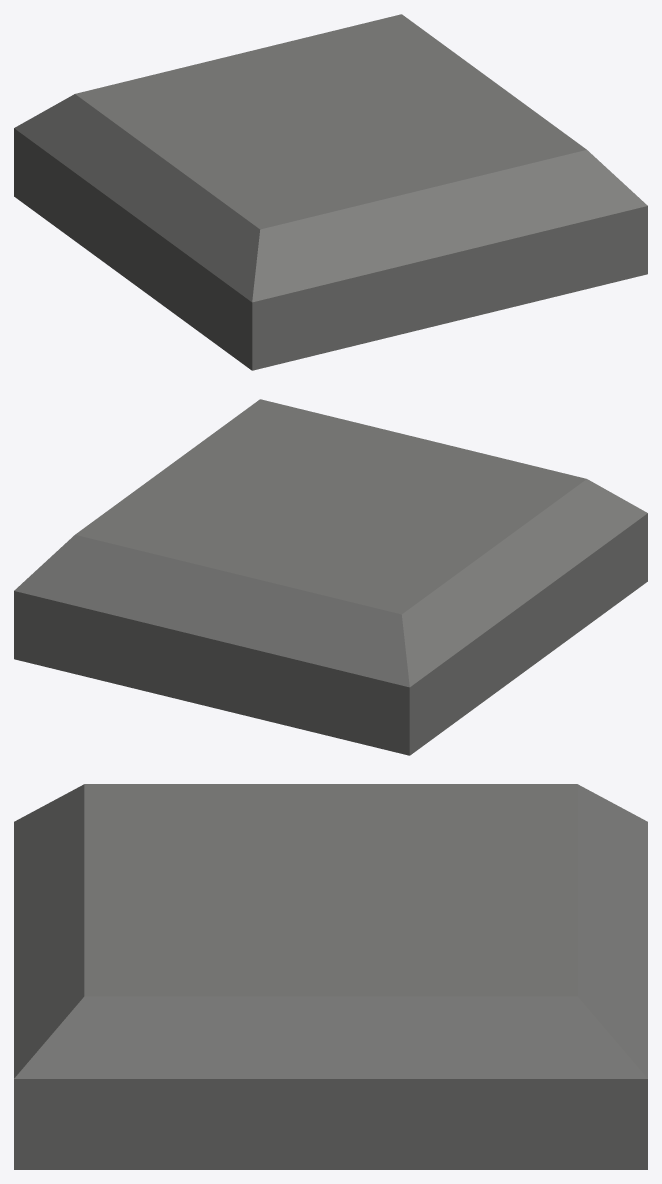
The model's file is SM_Env_Ground_Pavement_Corner_01.fbx.
3 renders of one model, top to bottom at view 1: azimuth 30°, elevation 25°; view 2: azimuth 150°, elevation 25°; view 3: azimuth 270°, elevation 25°, orthographic. The views are drawn at different scales.
Visible parts, largest first — view 1: SM_Env_Ground_Pavement_Corner_01; view 2: SM_Env_Ground_Pavement_Corner_01; view 3: SM_Env_Ground_Pavement_Corner_01.
Part boxes in pixels (x1,y1,x2,y2): SM_Env_Ground_Pavement_Corner_01: (14,14,647,370); SM_Env_Ground_Pavement_Corner_01: (14,399,647,755); SM_Env_Ground_Pavement_Corner_01: (14,784,647,1169).
Bounding box in the file's own units: 39.44 × 10.81 × 41.1.
